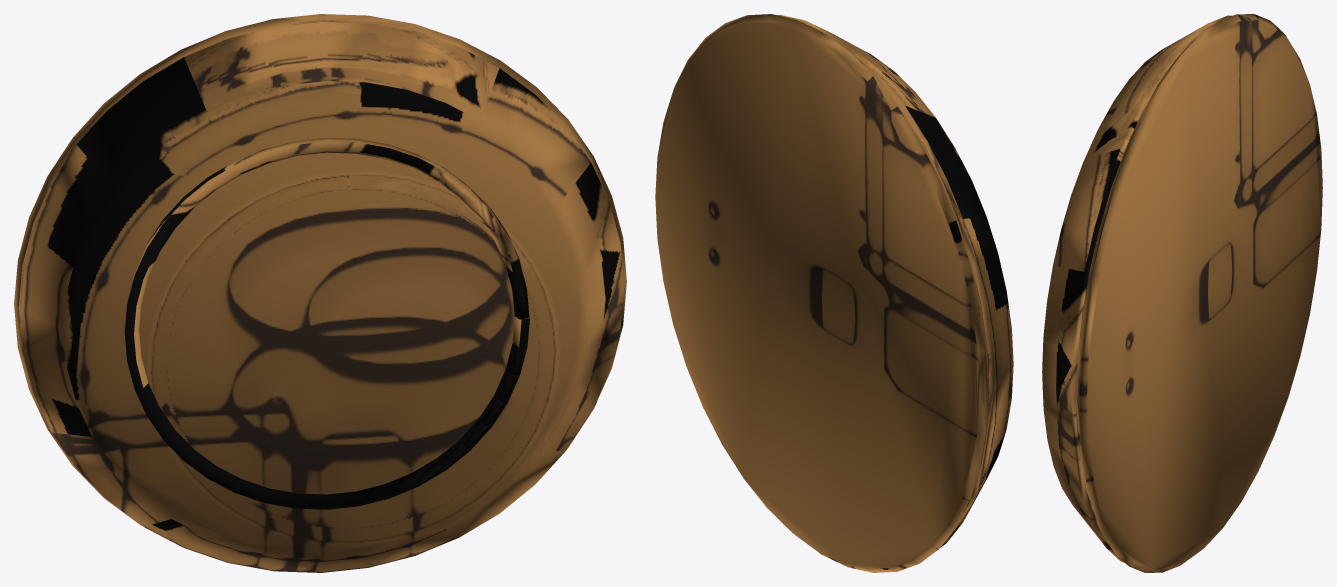
Rendered from Atalanta_Escudo.fbx.
3 views of the same model, side by side, from view 1: azimuth 30°, elevation 25°; view 2: azimuth 150°, elevation 25°; view 3: azimuth 270°, elevation 25° (orthographic). The views are drawn at different scales.
Parts seen in each view (by area): view 1: Atalanta_Escudo; view 2: Atalanta_Escudo; view 3: Atalanta_Escudo.
Boxes of the visible parts, x1,y1,x2,y2 form: Atalanta_Escudo: [14, 14, 626, 572]; Atalanta_Escudo: [655, 14, 1013, 572]; Atalanta_Escudo: [1042, 14, 1322, 572].
Bounding box in the file's own units: 1.59 × 1.75 × 0.8609.
